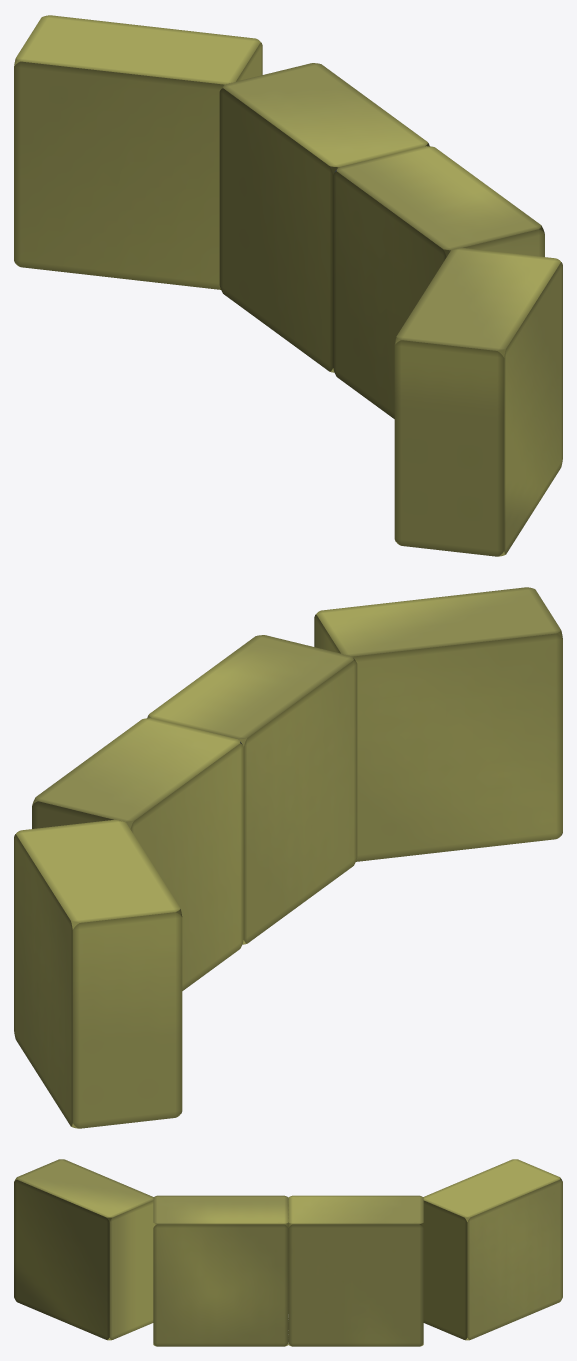
The model's file is stator_vertical.obj.
The picture shows the model from 3 angles, top to bottom: view 1: azimuth 30°, elevation 25°; view 2: azimuth 150°, elevation 25°; view 3: azimuth 270°, elevation 25°; orthographic projection. The views are drawn at different scales.
Parts seen in each view (by area): view 1: mesh; view 2: mesh; view 3: mesh.
Part boxes in pixels (x1=…): mesh: x1=14, y1=15, x2=562, y2=556; mesh: x1=14, y1=587, x2=562, y2=1128; mesh: x1=14, y1=1159, x2=562, y2=1346.
Bounding box in the file's own units: 0.5777 × 0.5 × 2.03.
